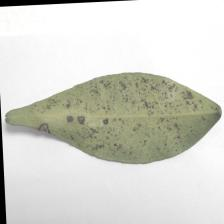canker: (36, 84, 196, 141)
